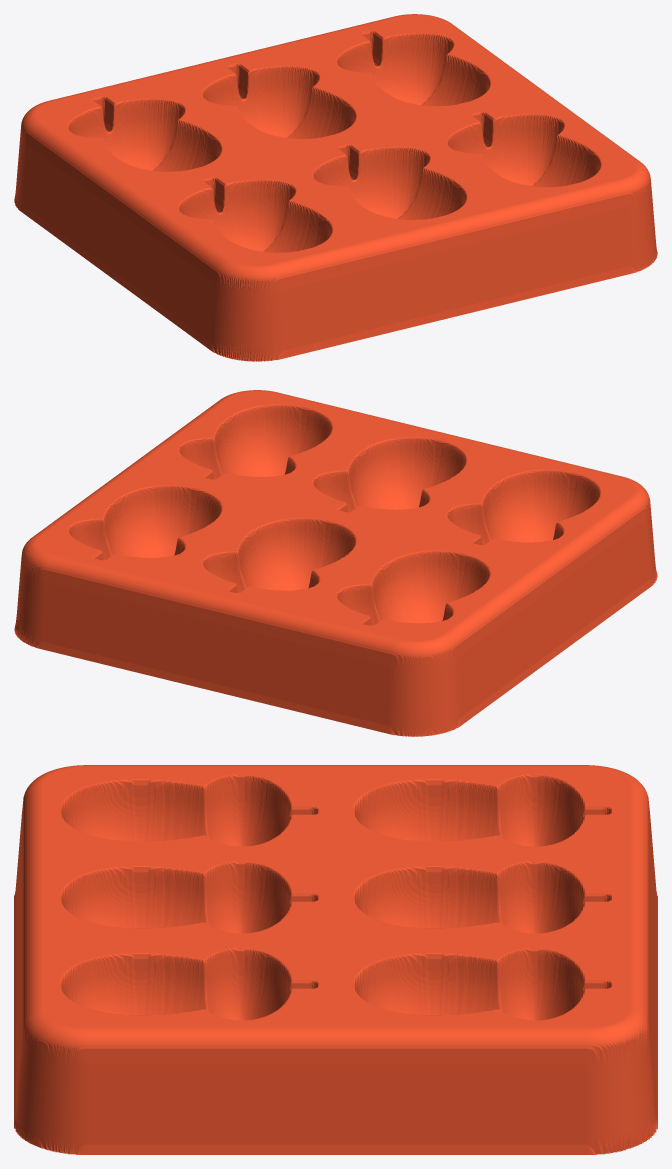
Rendered from mold.glb.
The picture shows the model from 3 angles, top to bottom: view 1: azimuth 30°, elevation 25°; view 2: azimuth 150°, elevation 25°; view 3: azimuth 270°, elevation 25°; orthographic projection. The views are drawn at different scales.
Parts seen in each view (by area): view 1: geometry_0; view 2: geometry_0; view 3: geometry_0.
Boxes of the visible parts, left/top/right/bottom form: geometry_0: left=14, top=14, right=657, bottom=361; geometry_0: left=14, top=390, right=657, bottom=736; geometry_0: left=14, top=765, right=657, bottom=1154.
Bounding box in the file's own units: 0.0846 × 0.0159 × 0.0808.
